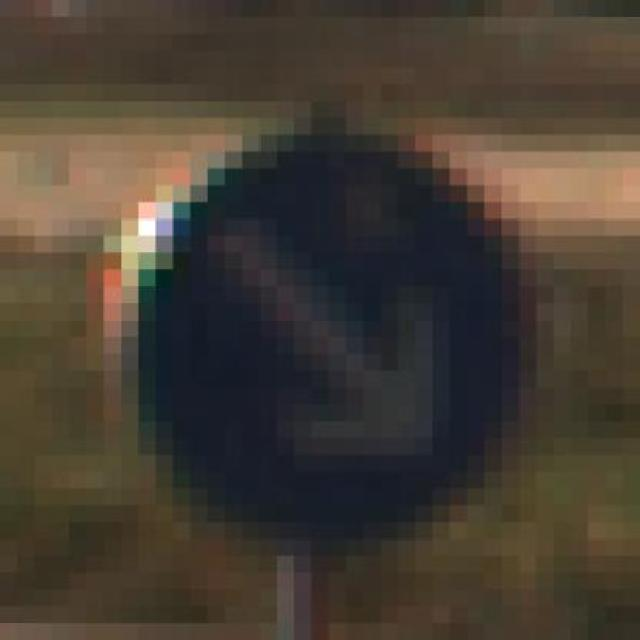Keep-Right: (86, 118, 554, 539)
